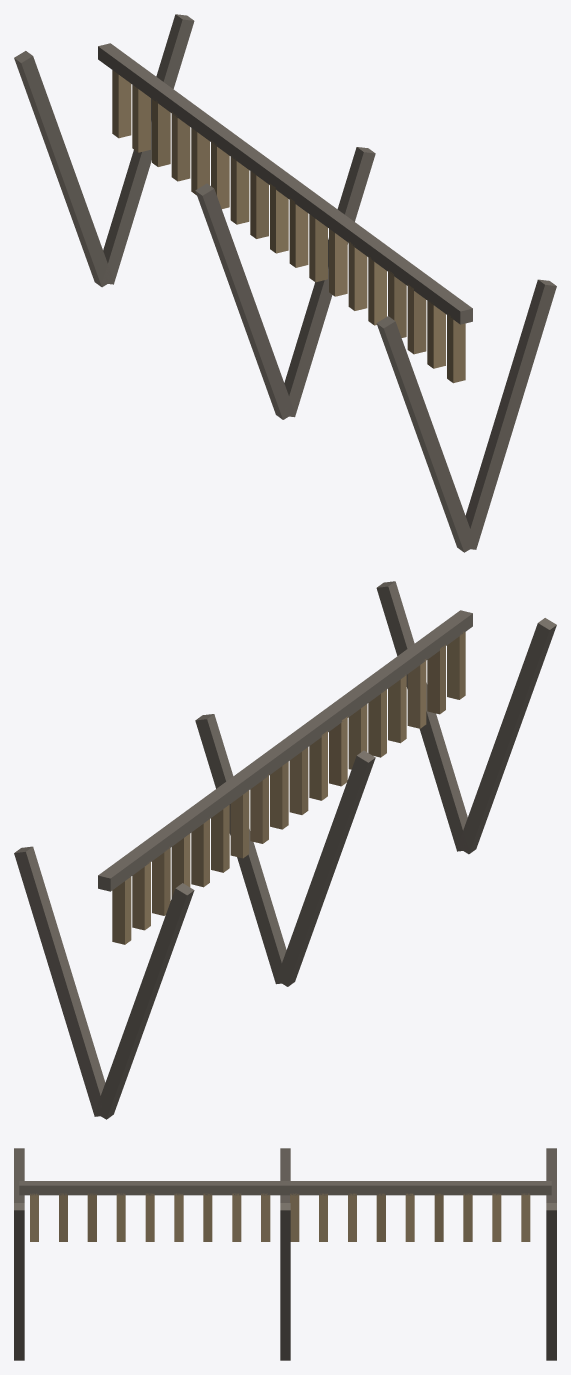
File: prop_hjell_rack.glb
The picture shows the model from 3 angles, top to bottom: view 1: azimuth 30°, elevation 25°; view 2: azimuth 150°, elevation 25°; view 3: azimuth 270°, elevation 25°; orthographic projection. The views are drawn at different scales.
Visible parts, largest first — view 1: hjell_frame, hjell_stockfish; view 2: hjell_frame, hjell_stockfish; view 3: hjell_frame, hjell_stockfish.
Part boxes in pixels (bbox=[...]): hjell_frame: bbox=[14, 14, 556, 552]; hjell_stockfish: bbox=[112, 70, 465, 383]; hjell_frame: bbox=[14, 581, 556, 1119]; hjell_stockfish: bbox=[112, 631, 465, 944]; hjell_frame: bbox=[14, 1148, 556, 1360]; hjell_stockfish: bbox=[30, 1193, 530, 1241].
Bounding box in the file's own units: 1.93 × 2.65 × 7.14.
